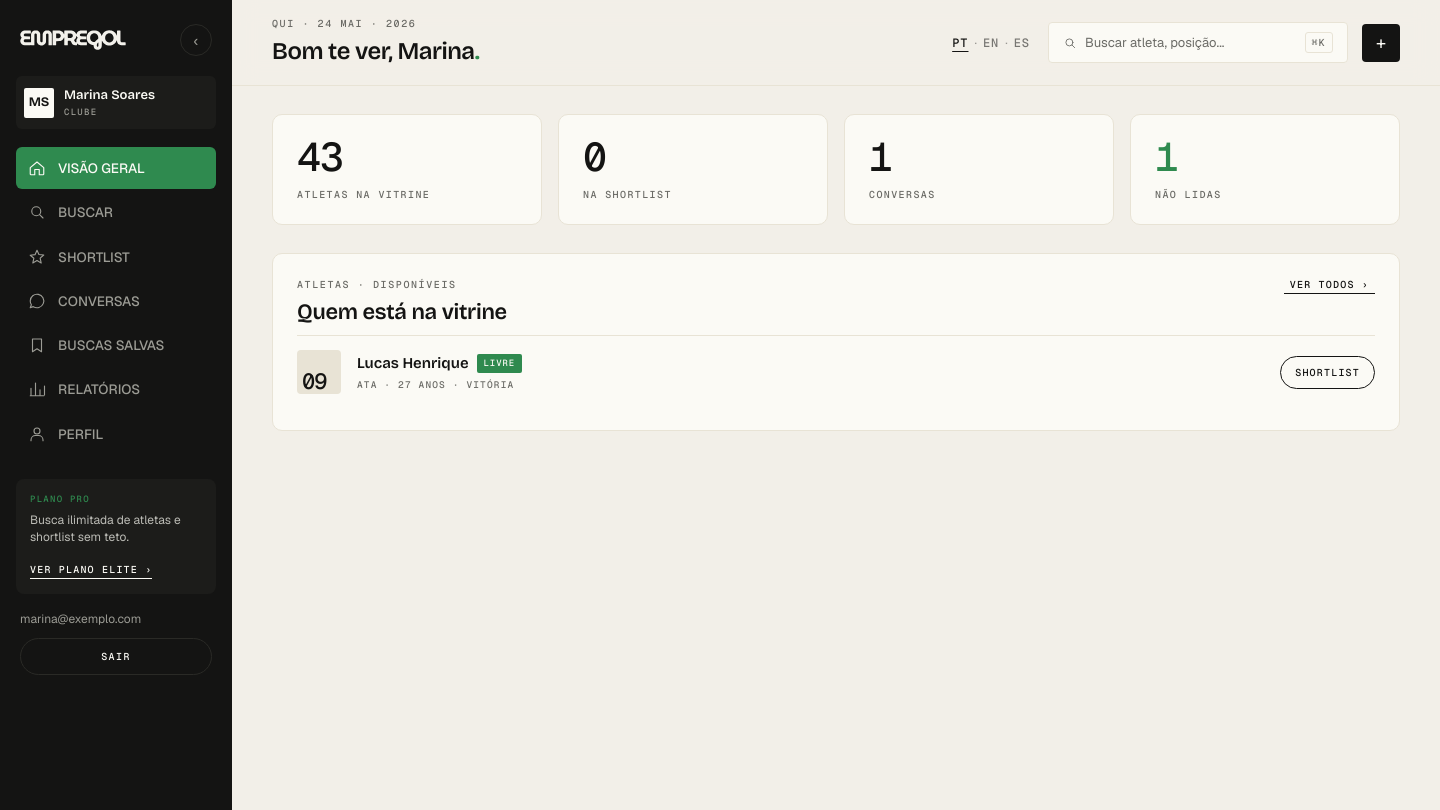
it: DashboardPage › abre o perfil do atleta ao clicar na linha
The width and height of the screenshot is (1440, 810).
Click the button named "Abrir o perfil de Lucas Henrique": coordinates (319, 372) [297,350,1264,394]
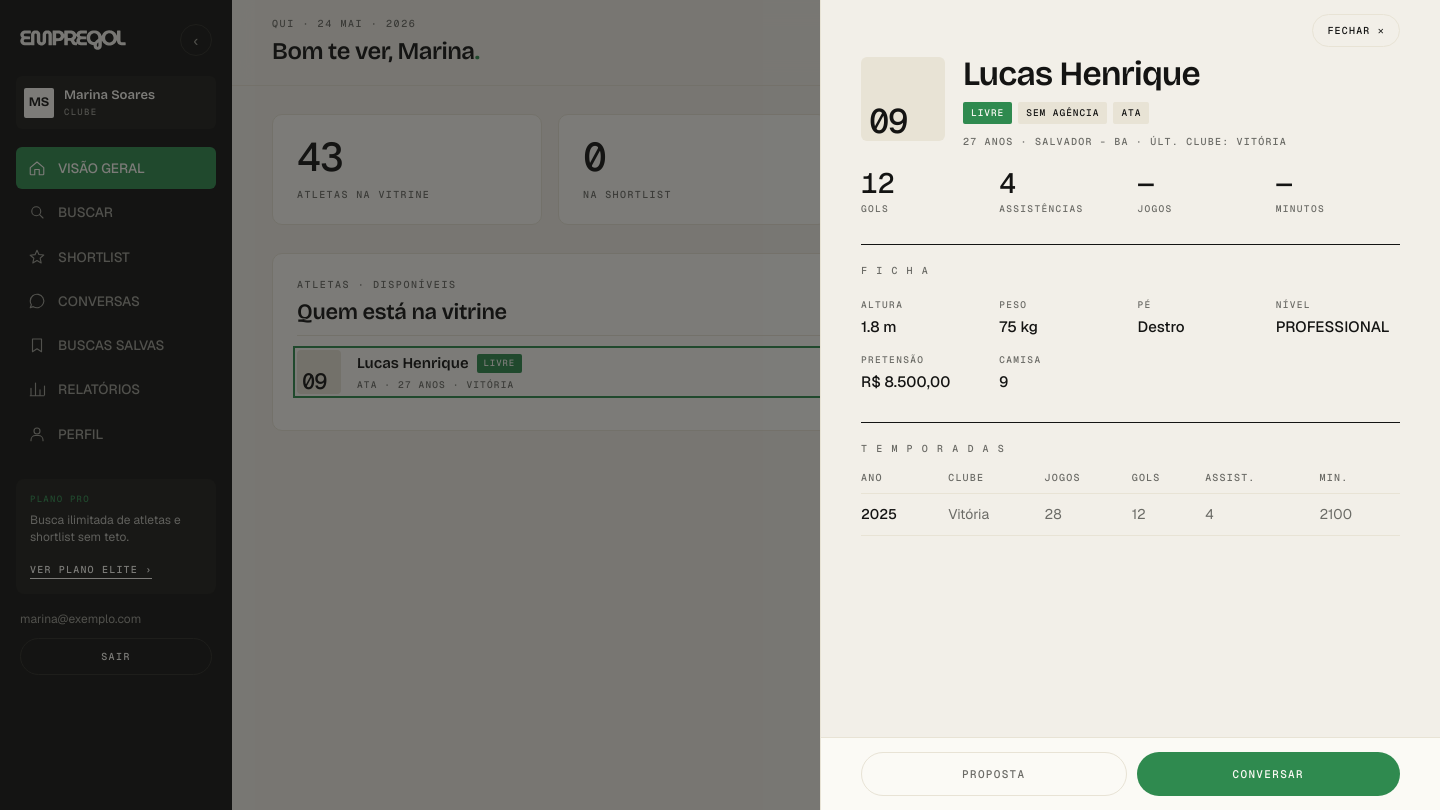
Expected: the text "Salvador - BA" is shown, [963,135,1287,148]
Expected: the text "2025" is shown, [861,493,948,535]
